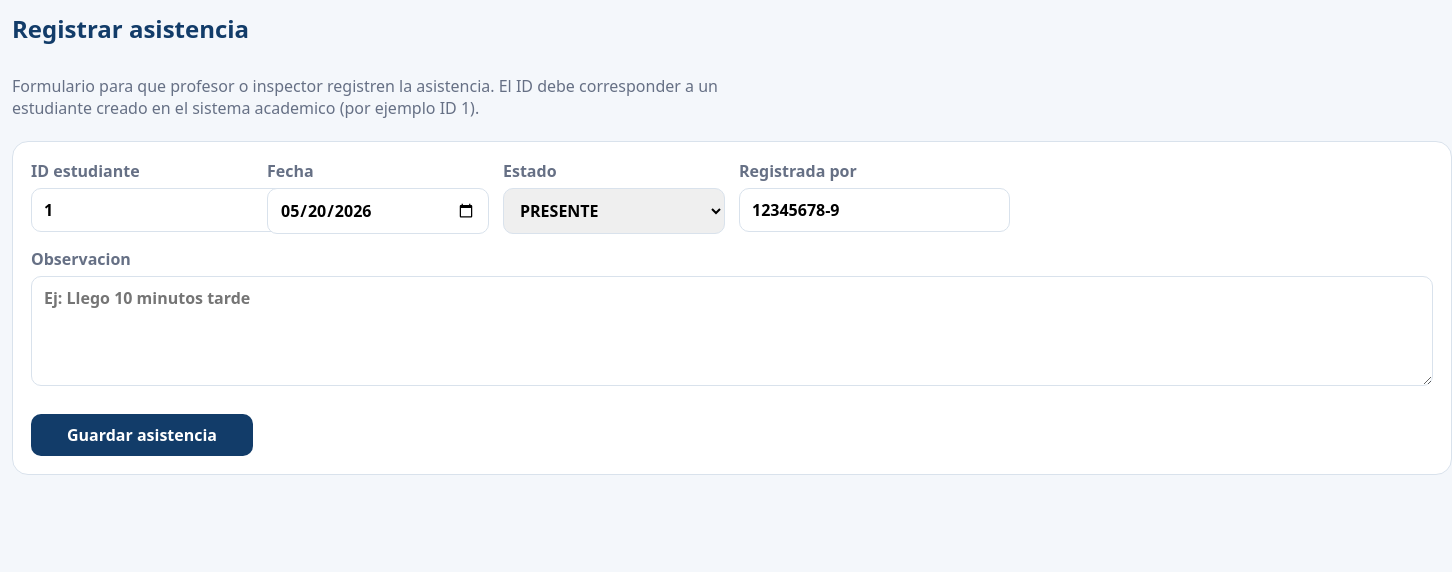
Test case: paginas frontend › RegistrarAsistencia muestra error si estudiante no existe
The width and height of the screenshot is (1452, 572).
Replace the text in the number field labelled "ID estudiante" with "99" at coordinates (166, 210), box [31,188,302,232]
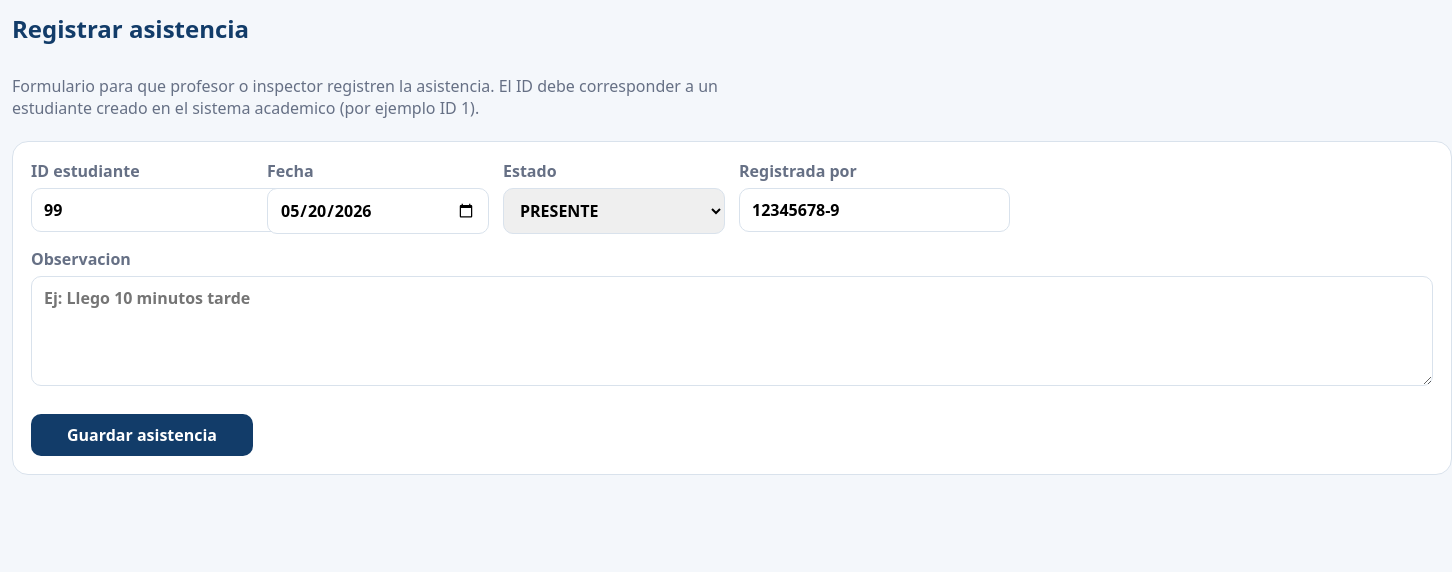
Click the button "Guardar asistencia" at coordinates (142, 435), box [31,414,253,456]
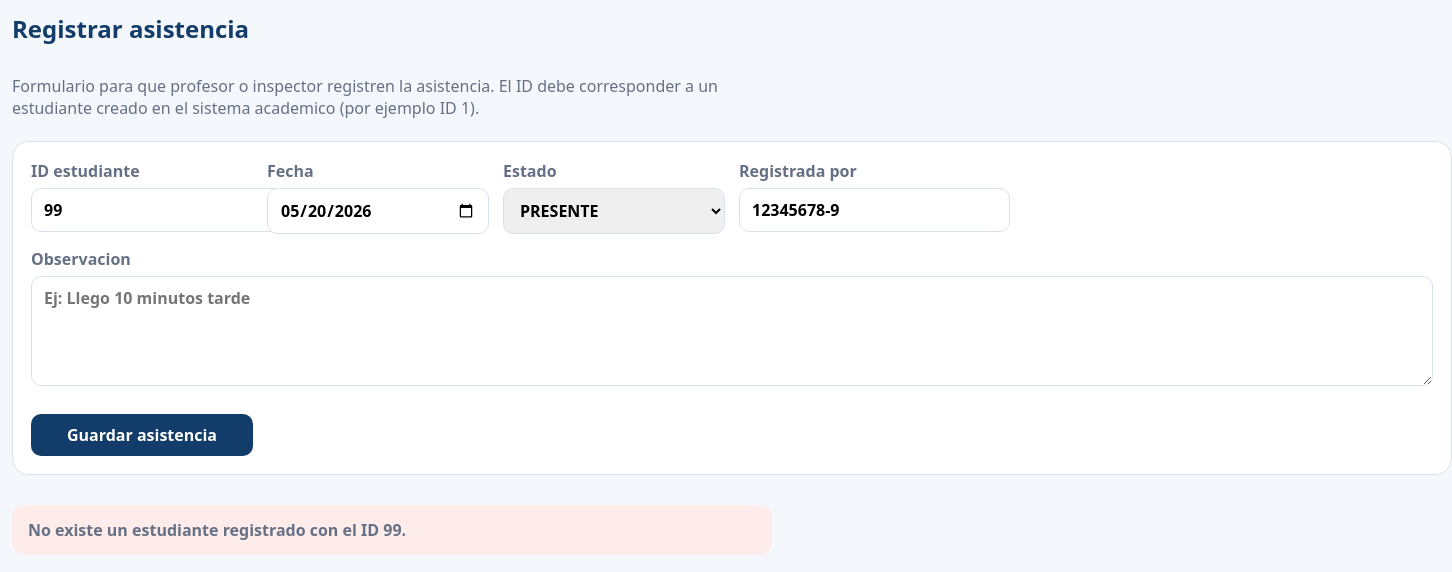
Now the text "No existe un estudiante registrado con el ID 99." is shown, box [12,505,772,555]
